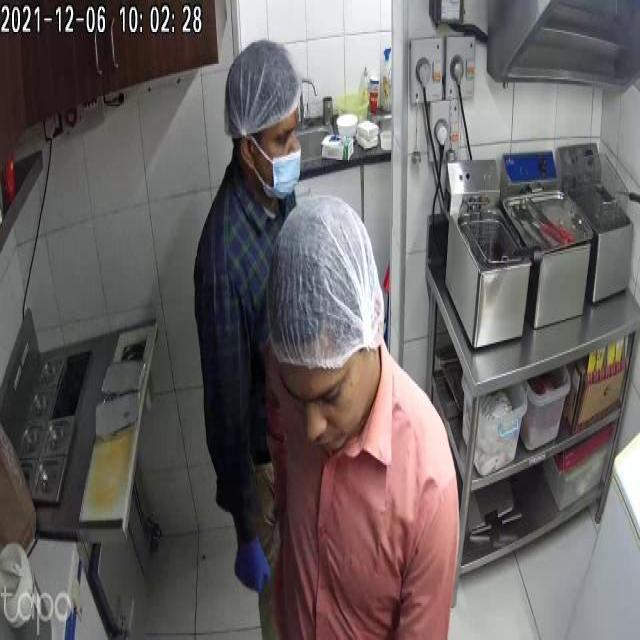gloved_hand: (219, 525, 281, 613)
